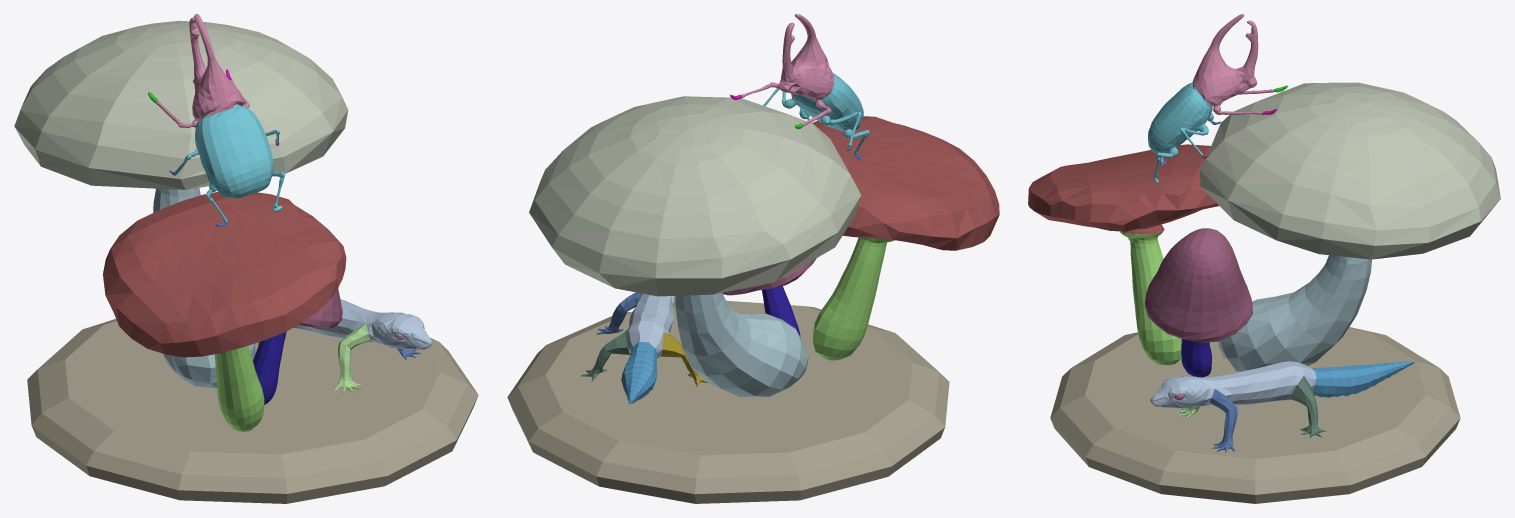
3 renders of one model, left to right at view 1: azimuth 30°, elevation 25°; view 2: azimuth 150°, elevation 25°; view 3: azimuth 270°, elevation 25°, orthographic. The views are drawn at different scales.
Parts seen in each view (by area): view 1: world; view 2: world; view 3: world.
Part boxes in pixels (left/top/right/bottom): world: left=14, top=14, right=478, bottom=503; world: left=507, top=14, right=999, bottom=503; world: left=1028, top=14, right=1500, bottom=503.
Bounding box in the file's own units: 1.72 × 1.76 × 2.
